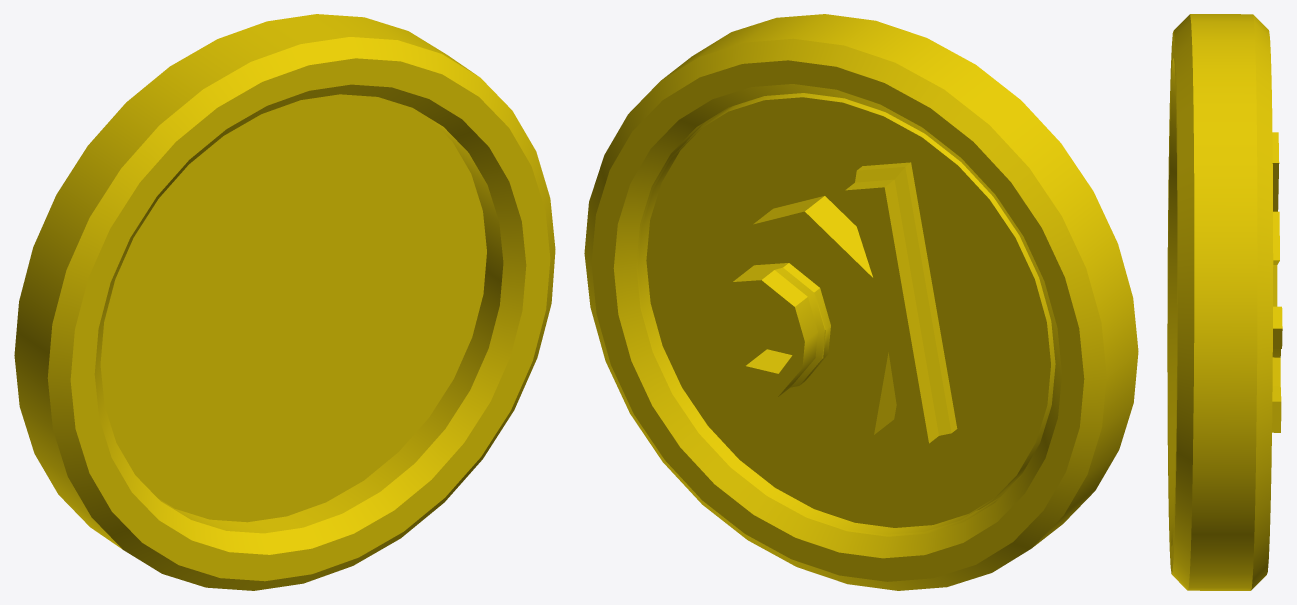
Rendered from coin1.fbx.
3 renders of one model, left to right at view 1: azimuth 30°, elevation 25°; view 2: azimuth 150°, elevation 25°; view 3: azimuth 270°, elevation 25°, orthographic. The views are drawn at different scales.
Visible parts, largest first — view 1: Cylinder; view 2: Cylinder; view 3: Cylinder.
Part boxes in pixels (x1,y1,x2,y2): Cylinder: (14,14,555,590); Cylinder: (584,14,1138,590); Cylinder: (1167,14,1282,590).
Size of the model in its own units: 63.44 by 63.45 by 12.63.
